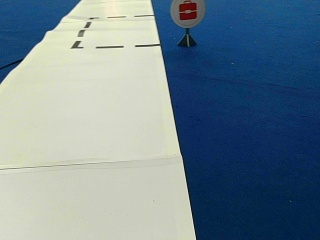company: (170, 0, 205, 27)
